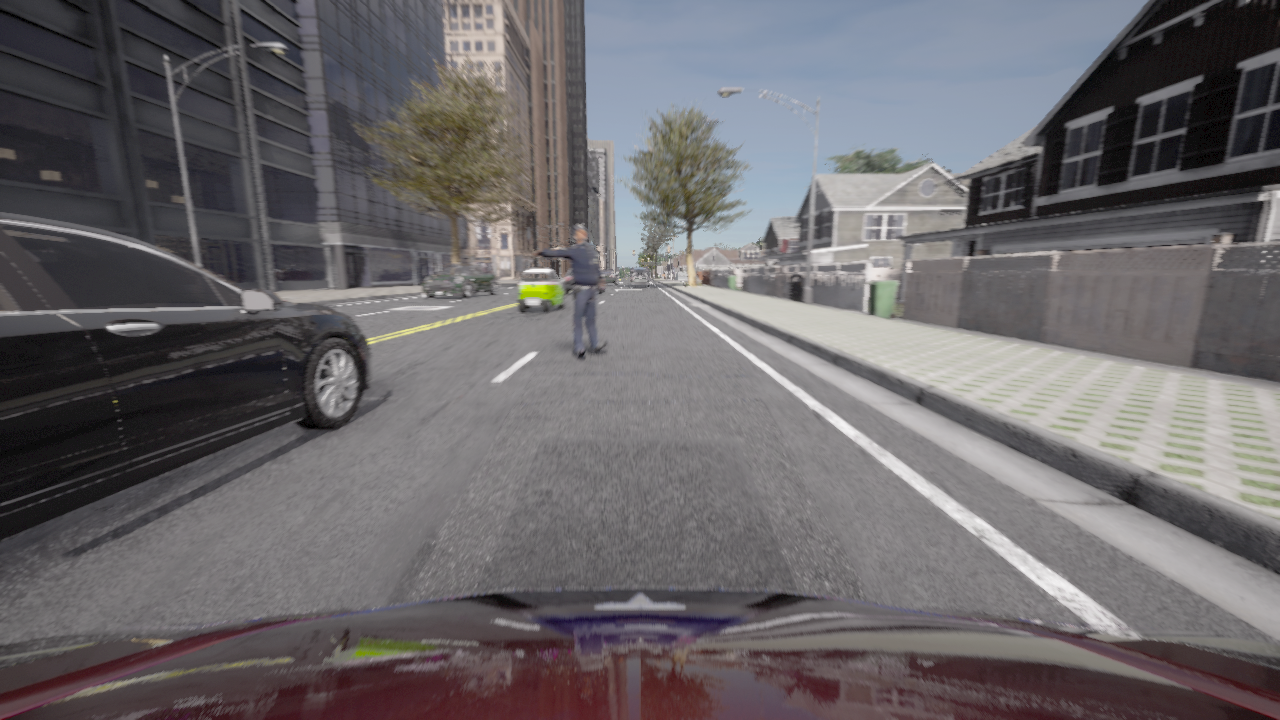cyclist: (0, 588, 1279, 719), (423, 263, 497, 298), (518, 268, 564, 312), (564, 268, 605, 294), (630, 270, 649, 287), (602, 270, 618, 285), (631, 267, 648, 273)
pedestrian: (533, 225, 608, 358)
